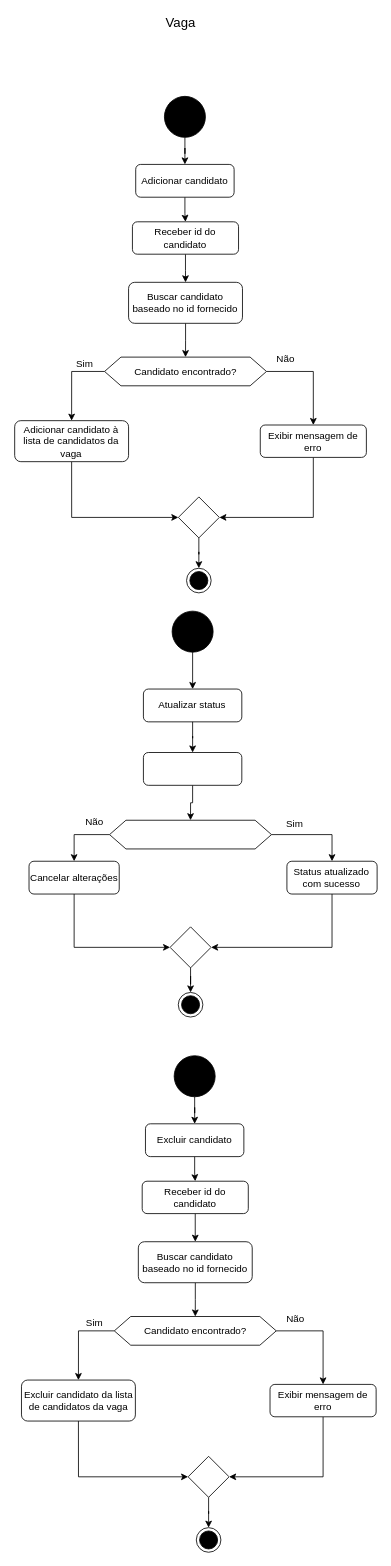
Image size: 391x1566. Some labels were removed from this diagram. Each missing label, with the centre of its shape:
"Alterar informações de status" belongs at point (192, 768).
"Confirmar alterações?" belongs at point (190, 834).
